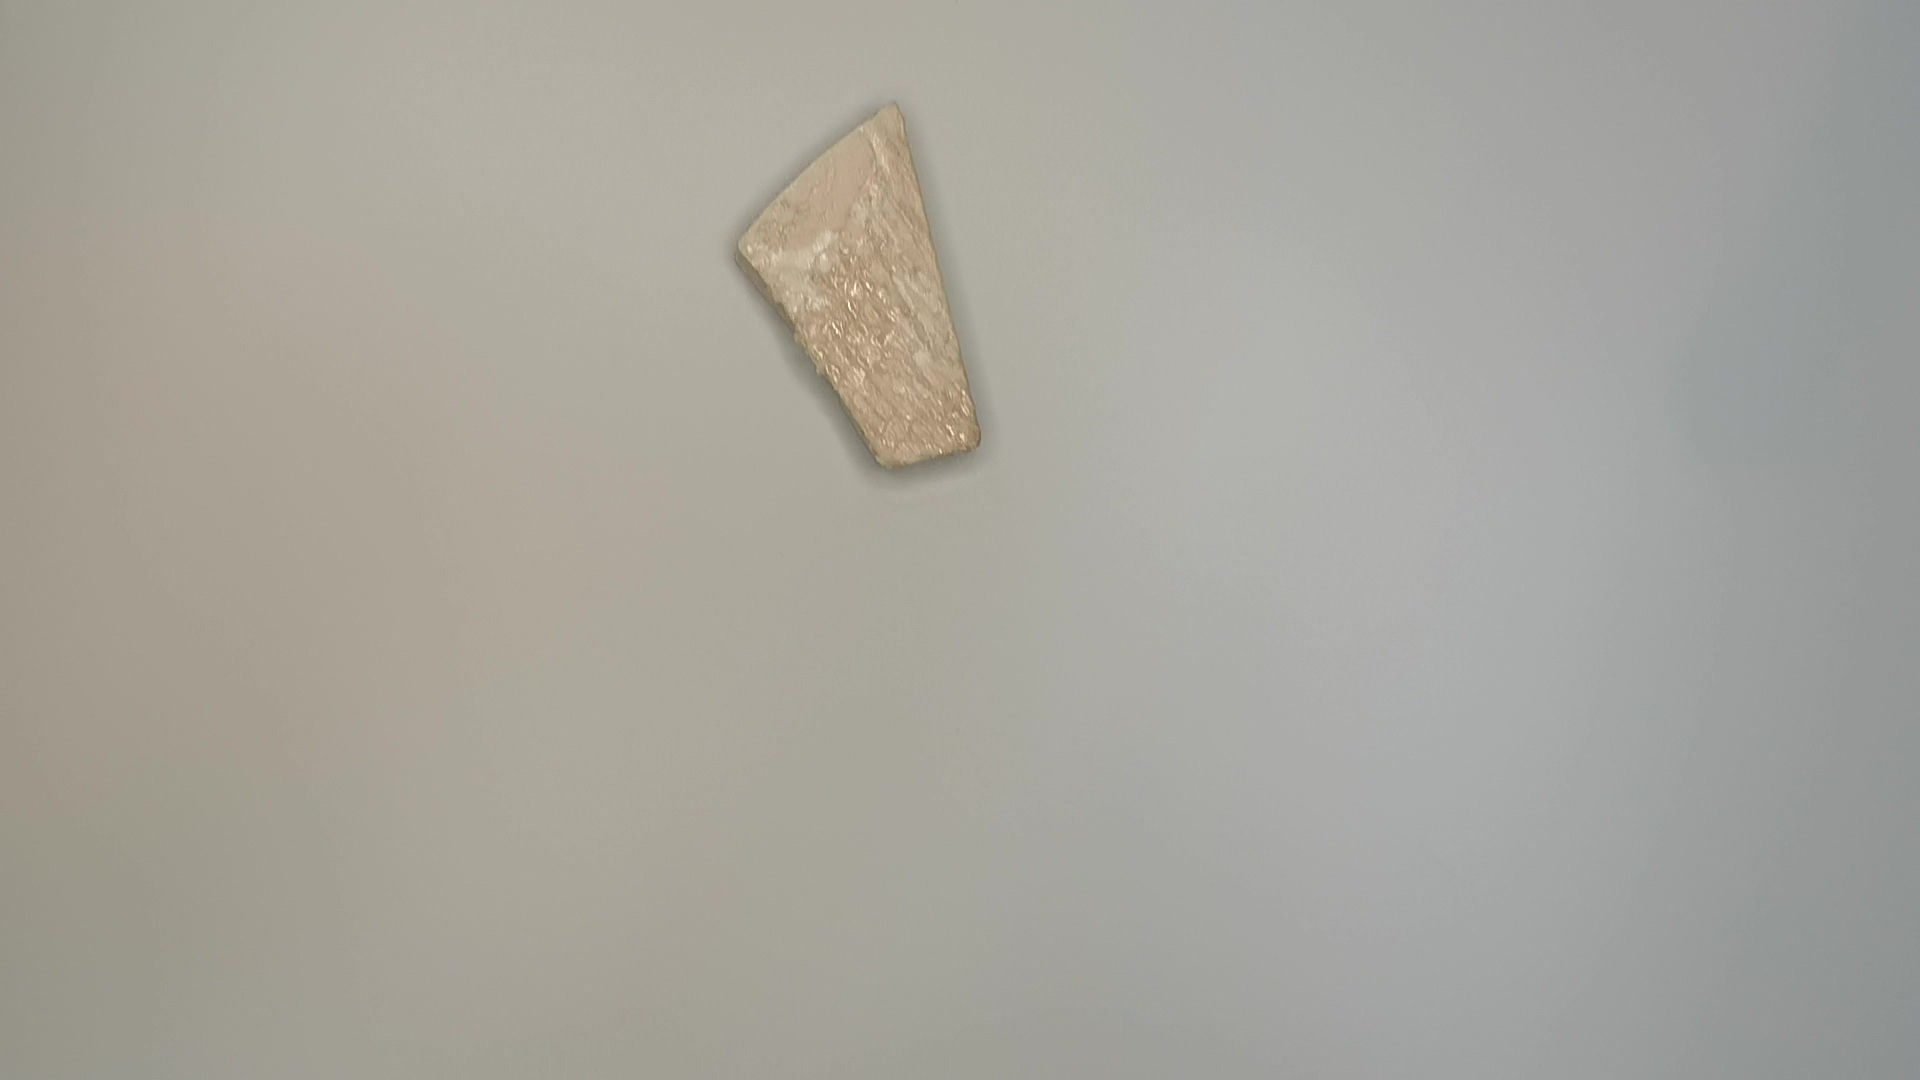ceramic: (727, 94, 997, 479)
